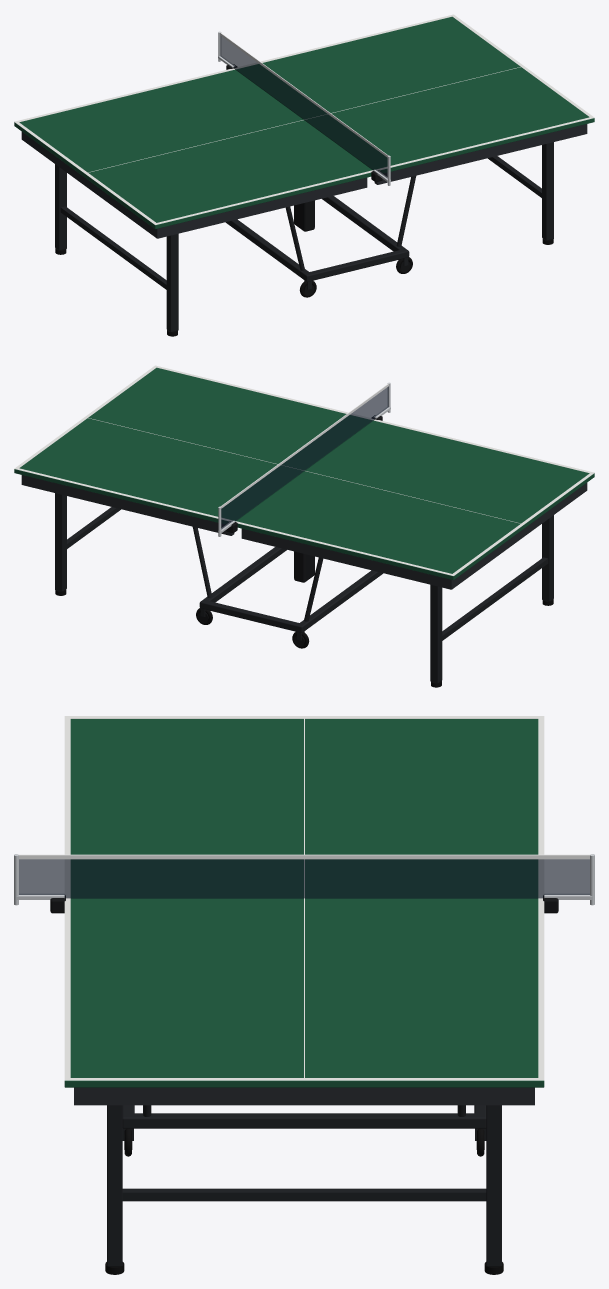
Rendered from platte-competition-gruen.glb.
The picture shows the model from 3 angles, top to bottom: view 1: azimuth 30°, elevation 25°; view 2: azimuth 150°, elevation 25°; view 3: azimuth 270°, elevation 25°; orthographic projection. The views are drawn at different scales.
Parts seen in each view (by area): view 1: Platte (×2), Hälfte A, Beine (×2), Netz, Hälfte B, Fahrwerk, Tischtennisplatte; view 2: Platte (×2), Hälfte A, Beine (×2), Netz, Hälfte B, Fahrwerk, Tischtennisplatte; view 3: Platte (×2), Netz, Hälfte B, Beine, Fahrwerk, Hälfte A.
Part boxes in pixels (bbox=[...]): Platte (×2): bbox=[14, 16, 594, 229]; Hälfte A: bbox=[14, 68, 373, 238]; Beine (×2): bbox=[55, 142, 553, 336]; Netz: bbox=[218, 31, 390, 185]; Hälfte B: bbox=[235, 14, 594, 184]; Fahrwerk: bbox=[225, 196, 412, 297]; Tischtennisplatte: bbox=[285, 176, 416, 270]; Platte (×2): bbox=[14, 367, 594, 580]; Hälfte A: bbox=[235, 419, 594, 589]; Beine (×2): bbox=[55, 493, 553, 687]; Netz: bbox=[218, 382, 390, 536]; Hälfte B: bbox=[14, 365, 373, 535]; Fahrwerk: bbox=[196, 547, 383, 648]; Tischtennisplatte: bbox=[192, 527, 323, 621]; Platte (×2): bbox=[64, 719, 544, 1087]; Netz: bbox=[14, 854, 594, 913]; Hälfte B: bbox=[64, 898, 544, 1105]; Beine: bbox=[105, 1105, 503, 1274]; Fahrwerk: bbox=[122, 1105, 486, 1156]; Hälfte A: bbox=[64, 716, 544, 897].
Bounding box in the file's own units: 2.74 × 0.9125 × 1.85.
